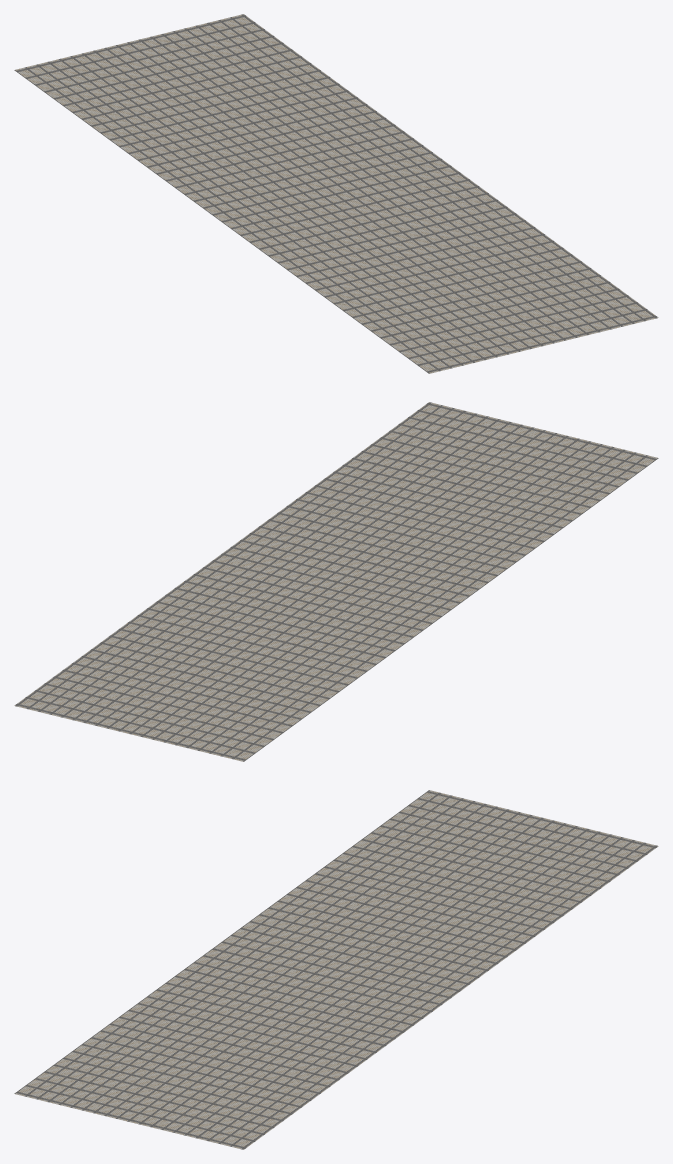
Rendered from floor.fbx.
3 views of the same model, one above another, from view 1: azimuth 30°, elevation 25°; view 2: azimuth 150°, elevation 25°; view 3: azimuth 330°, elevation 25° (orthographic).
Parts seen in each view (by area): view 1: floor; view 2: floor; view 3: floor.
Boxes of the visible parts, bbox=[...] form: floor: bbox=[14, 14, 658, 373]; floor: bbox=[14, 402, 658, 761]; floor: bbox=[14, 790, 658, 1149].
Size of the model in its own units: 2376 by 0 by 7434.
